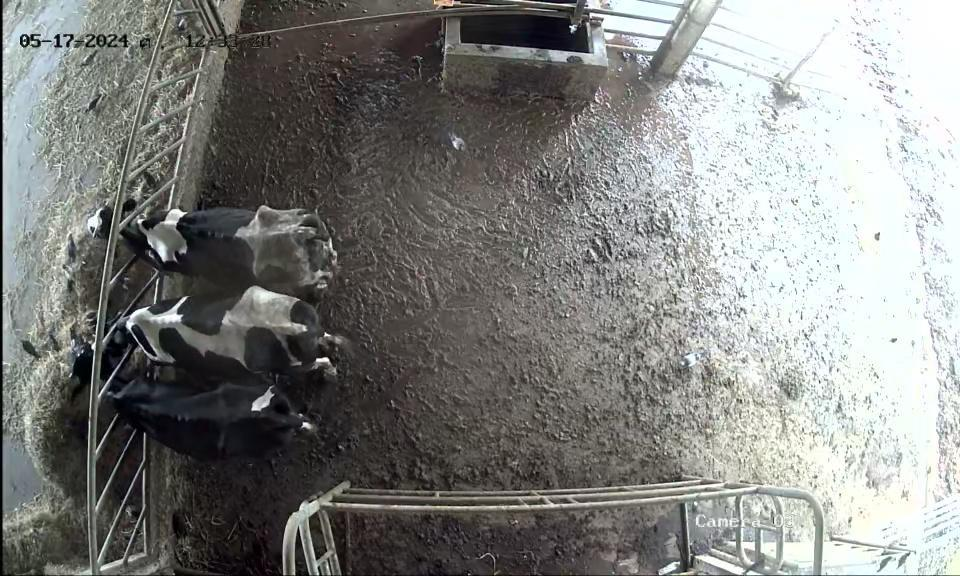eat: (50, 339, 159, 430), (69, 191, 185, 270), (58, 304, 185, 368)
